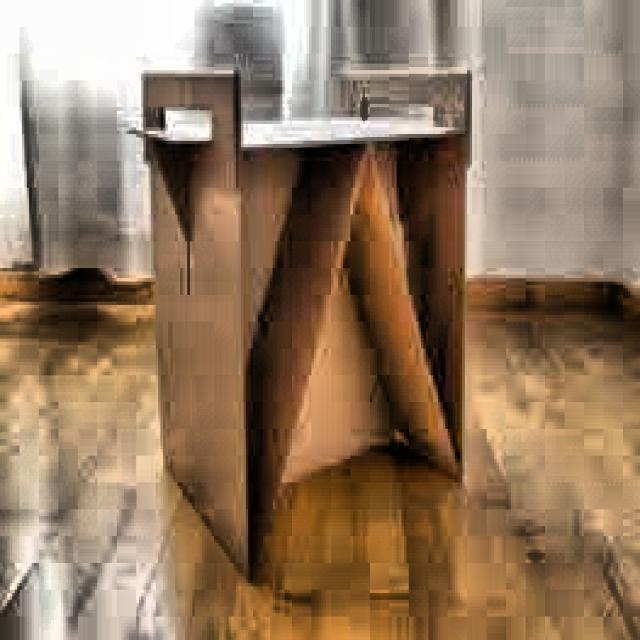cardboard: (131, 63, 470, 580)
